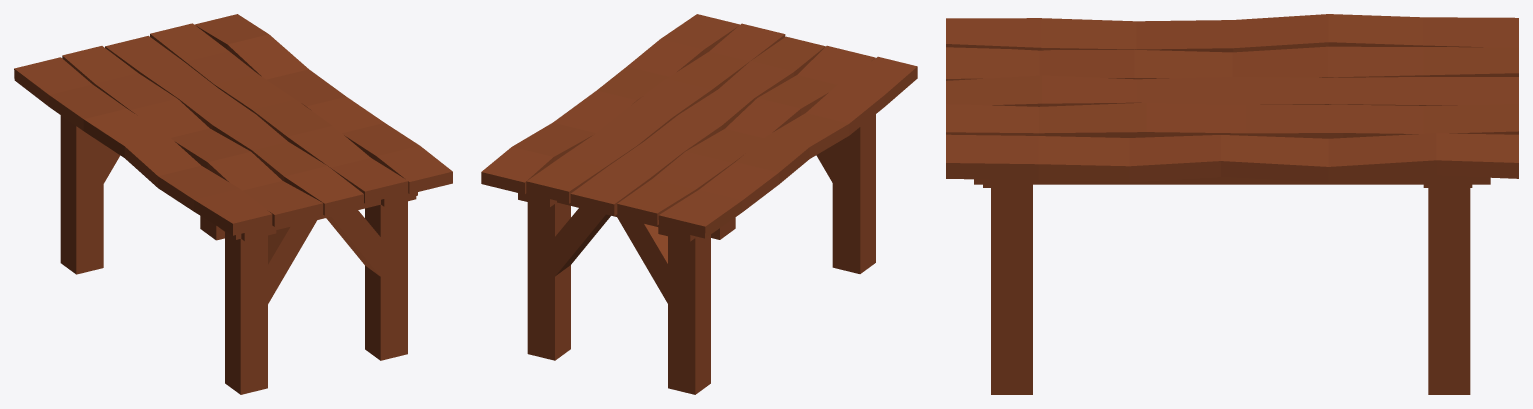
File: table.fbx
3 views of the same model, side by side, from view 1: azimuth 30°, elevation 25°; view 2: azimuth 150°, elevation 25°; view 3: azimuth 270°, elevation 25° (orthographic). The views are drawn at different scales.
Parts seen in each view (by area): view 1: Cube.004, Cube.002, Cube.003, Cube, Cube.005; view 2: Cube.004, Cube, Cube.001, Cube.002, Cube.005; view 3: Cube.004, Cube.001, Cube.003, Cube.005.
Boxes of the visible parts, x1=… form: Cube.004: x1=14, y1=14, x2=452, y2=235; Cube.002: x1=225, y1=220, x2=316, y2=394; Cube.003: x1=326, y1=201, x2=407, y2=360; Cube: x1=60, y1=115, x2=120, y2=274; Cube.005: x1=219, y1=192, x2=417, y2=240; Cube.004: x1=481, y1=14, x2=917, y2=238; Cube: x1=617, y1=217, x2=710, y2=394; Cube.001: x1=527, y1=202, x2=610, y2=360; Cube.002: x1=816, y1=114, x2=875, y2=273; Cube.005: x1=518, y1=193, x2=696, y2=241; Cube.004: x1=946, y1=14, x2=1518, y2=182; Cube.001: x1=1428, y1=188, x2=1470, y2=394; Cube.003: x1=991, y1=184, x2=1032, y2=394; Cube.005: x1=974, y1=175, x2=1490, y2=187.
Bounding box in the file's own units: 217 × 174 × 356.
